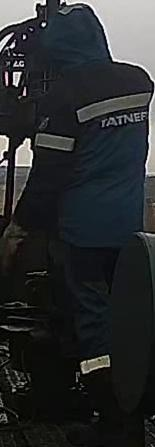gloves: (0, 214, 34, 272)
vest: (39, 59, 151, 254)
